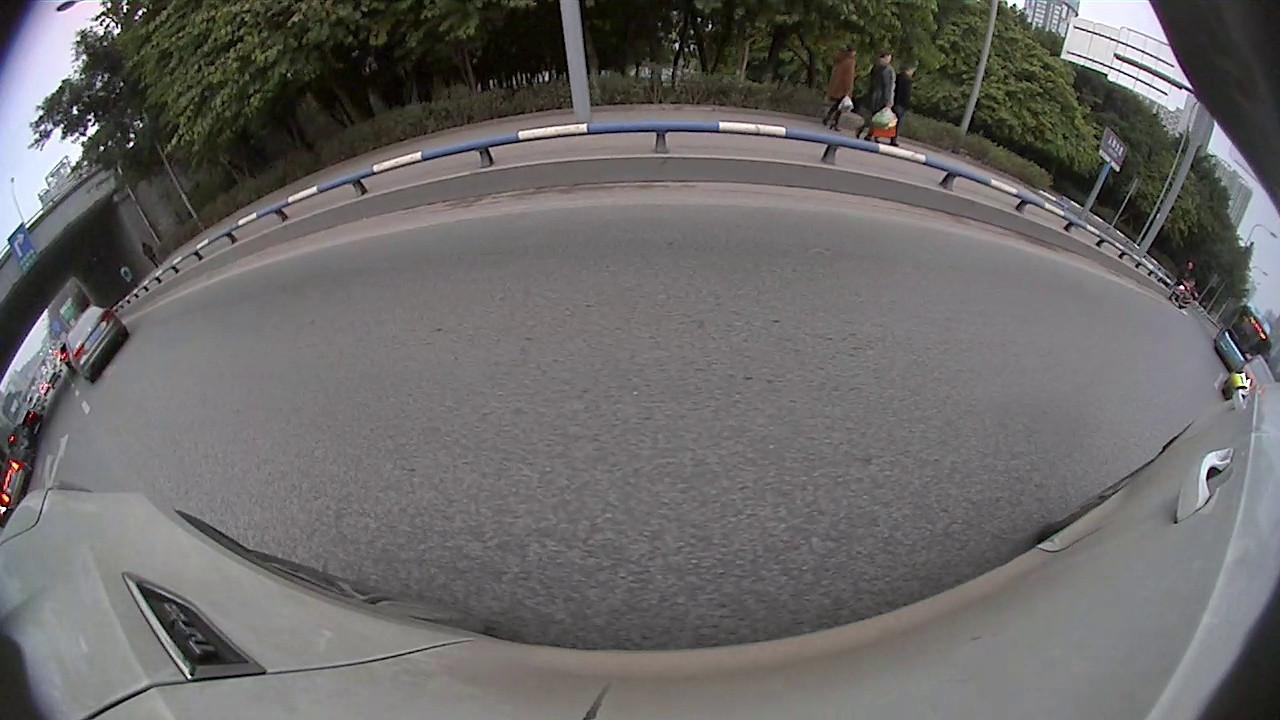bus: (1214, 306, 1274, 375)
car: (65, 304, 130, 384), (1221, 354, 1277, 407), (1, 447, 35, 512)
person: (831, 40, 857, 130), (870, 51, 895, 143), (896, 67, 913, 138)
